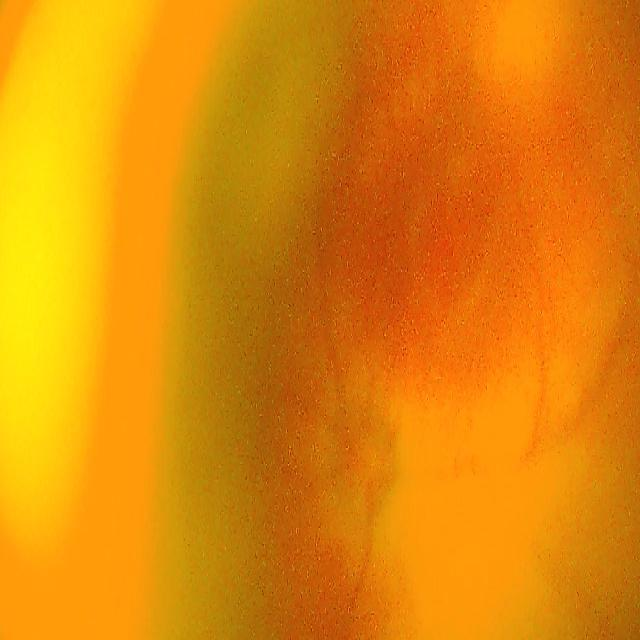optic-nerve: (313, 384, 417, 549)
